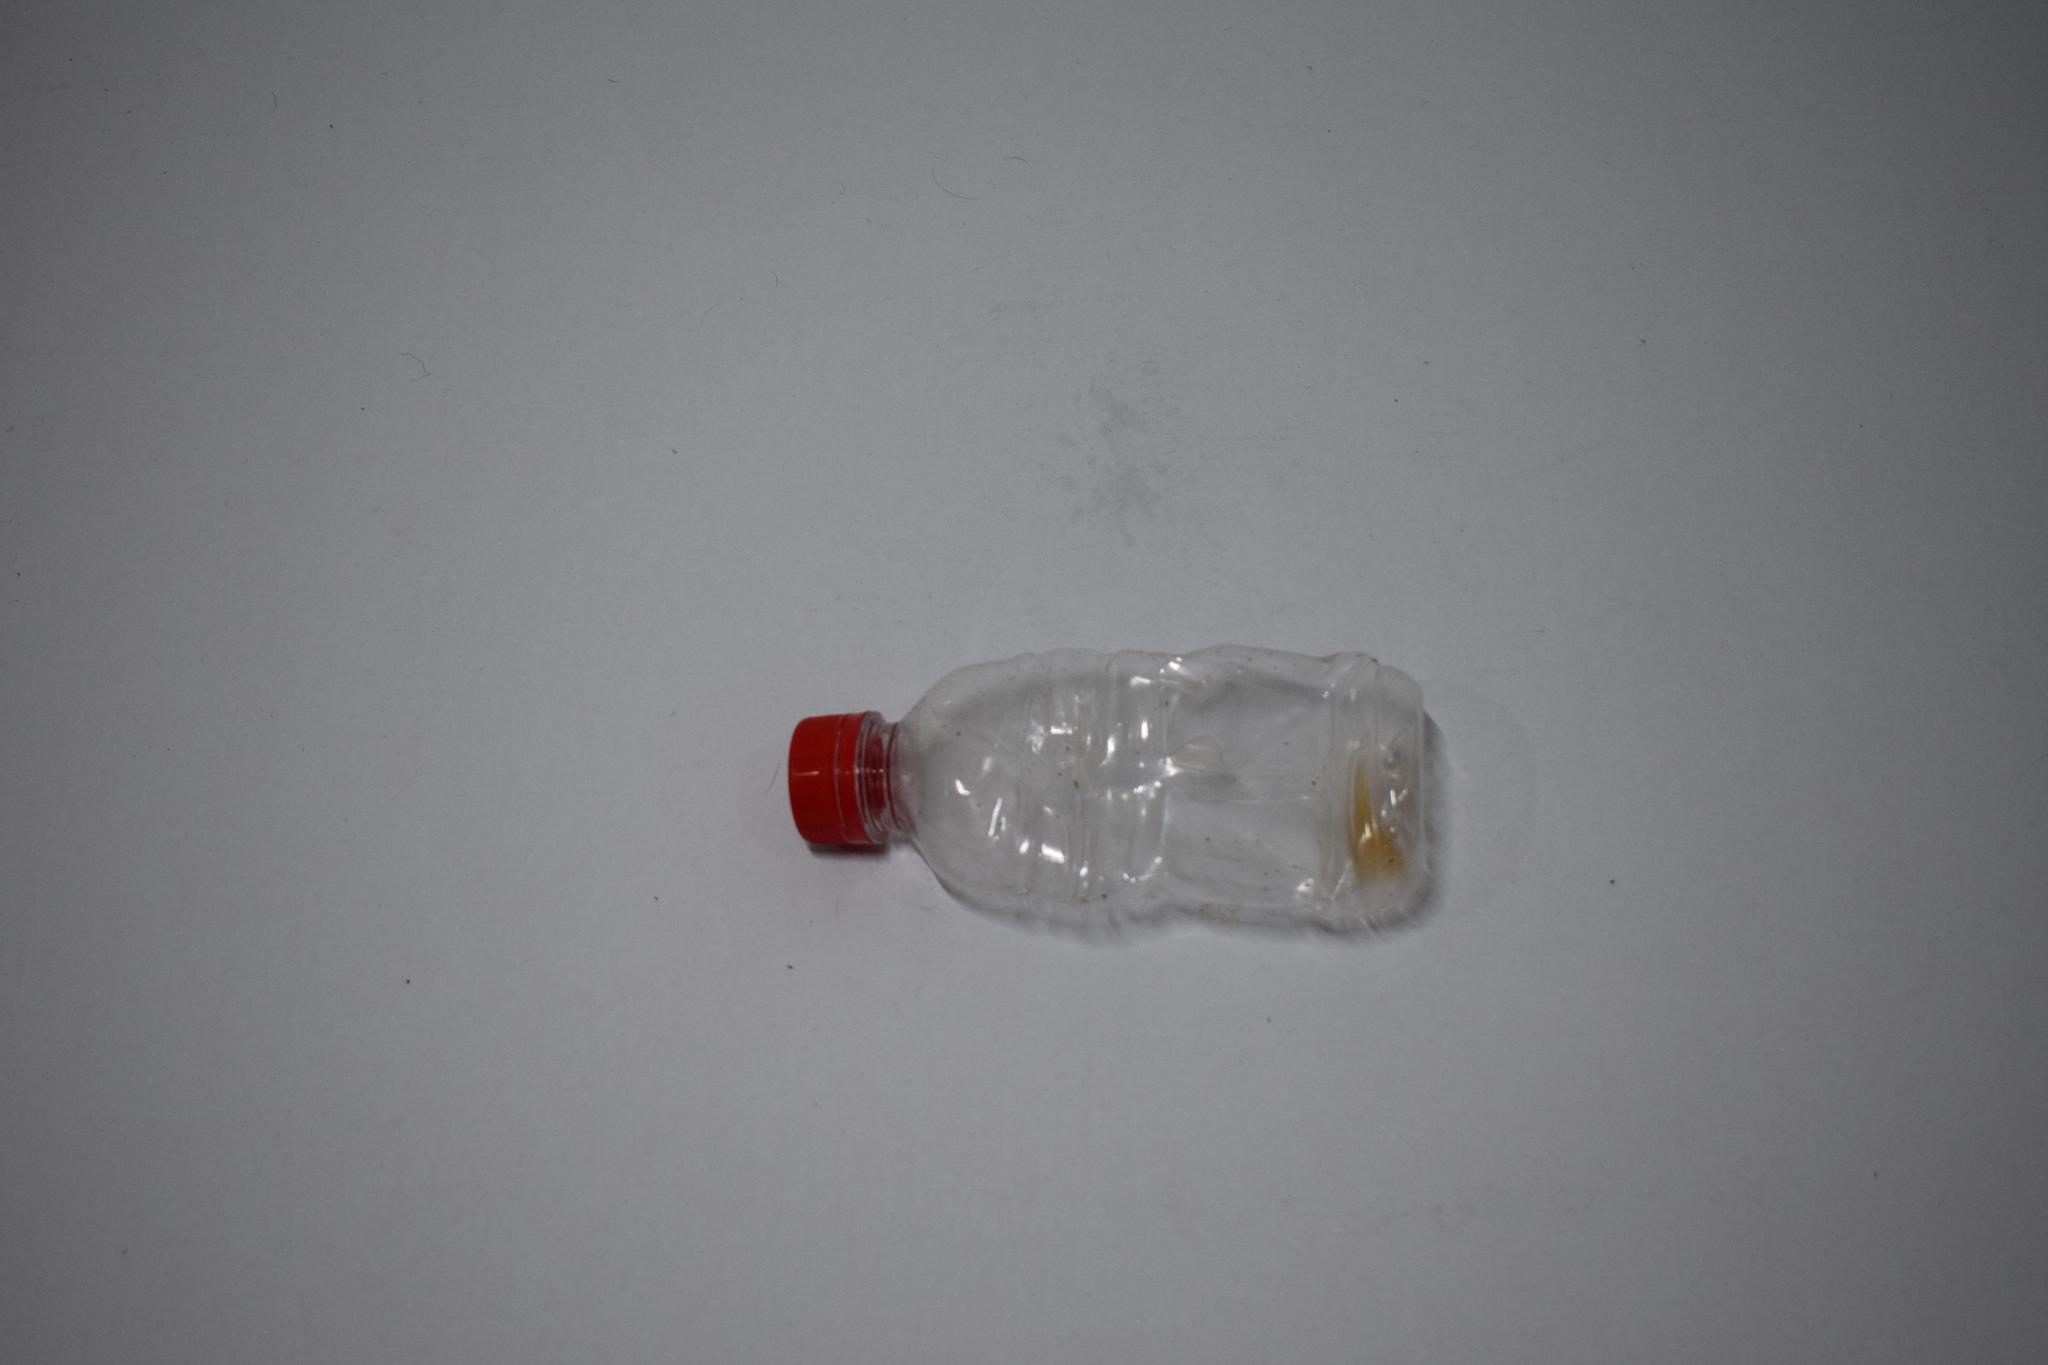bottle: (770, 602, 1512, 955)
